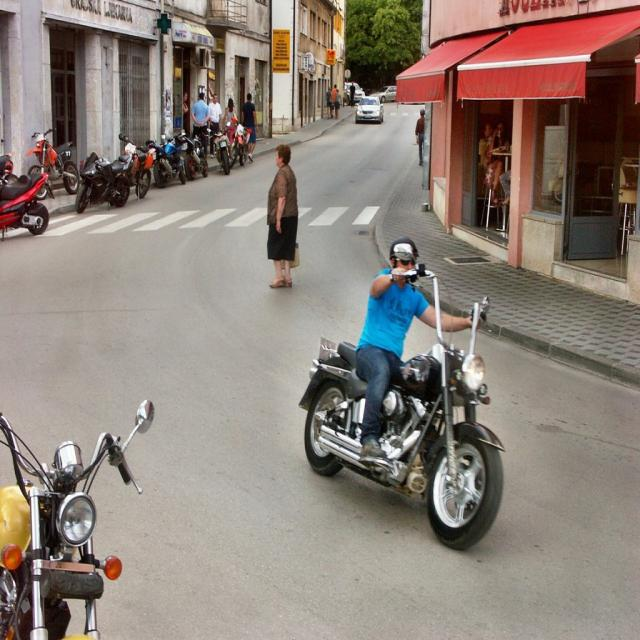car: (355, 93, 385, 123)
